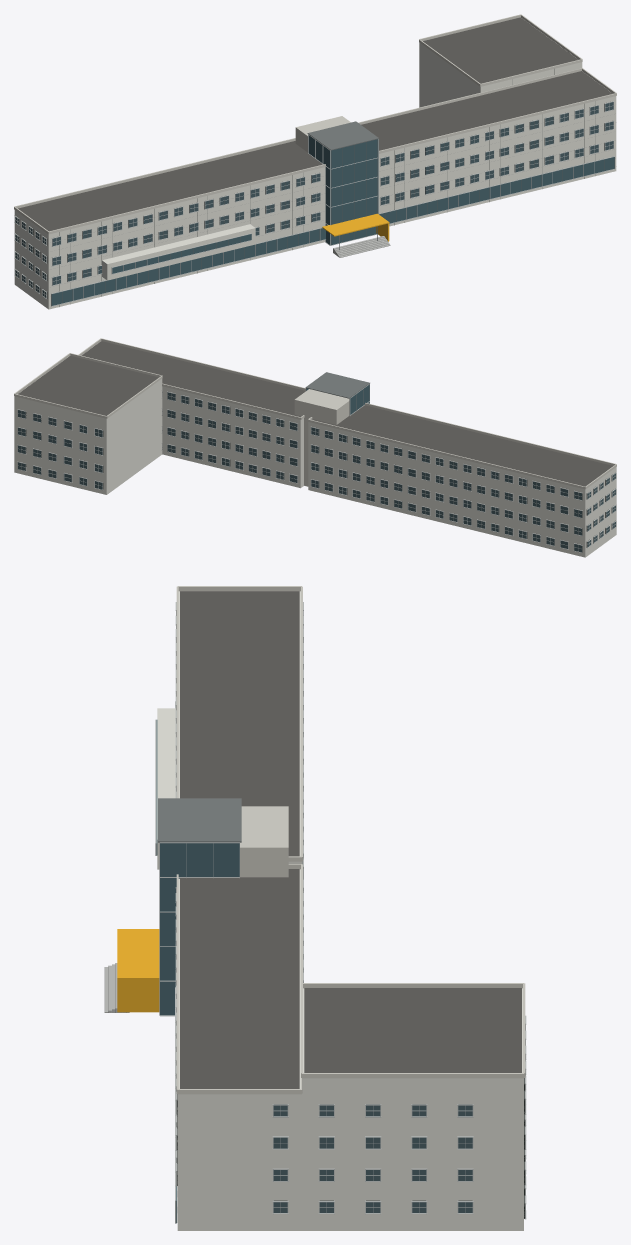
3 renders of one model, top to bottom at view 1: azimuth 30°, elevation 25°; view 2: azimuth 150°, elevation 25°; view 3: azimuth 270°, elevation 25°, orthographic. The views are drawn at different scales.
Parts seen in each view (by area): view 1: A-main__white, B-front-estimated__white, A-main-roof-estimated__roof, B-front-estimated-roof-estimated__roof, B-return-estimated-roof-estimated__roof, tall-entry-glazing__blue, B-front-estimated-front__glass, A-main-ground-glass__blue, A-main-front__glass, B-return-estimated__white, B-front-estimated-ground-glass__blue, B-front-estimated-front__frame (+19 smaller); view 2: A-main__white, B-return-estimated__white, B-front-estimated__white, A-main-roof-estimated__roof, B-front-estimated-roof-estimated__roof, A-main-rear-estimated__glass, B-return-estimated-roof-estimated__roof, A-main-rear-estimated__frame, B-front-estimated-rear-estimated__glass, B-front-estimated-rear-estimated__frame, A-main-roof-estimated__light, entry-back-wall-estimated__light (+8 smaller); view 3: B-return-estimated__white, A-main-roof-estimated__roof, B-front-estimated-roof-estimated__roof, B-return-estimated-roof-estimated__roof, B-front-estimated__white, entry-glazed-east__blue, entry-glass-roof__metal, entry-back-wall-estimated__light, endwall-estimated__glass, B-return-estimated-roof-estimated__light, endwall-estimated__frame, yellow-canopy__yellow (+5 smaller).
Boxes of the visible parts, bbox=[...] form: A-main__white: bbox=[14, 167, 325, 309]; B-front-estimated__white: bbox=[379, 71, 616, 226]; A-main-roof-estimated__roof: bbox=[18, 141, 322, 231]; B-front-estimated-roof-estimated__roof: bbox=[361, 71, 612, 150]; B-return-estimated-roof-estimated__roof: bbox=[423, 17, 578, 83]; tall-entry-glazing__blue: bbox=[331, 139, 377, 244]; B-front-estimated-front__glass: bbox=[381, 102, 613, 204]; A-main-ground-glass__blue: bbox=[51, 228, 325, 305]; A-main-front__glass: bbox=[52, 173, 320, 284]; B-return-estimated__white: bbox=[419, 23, 582, 107]; B-front-estimated-ground-glass__blue: bbox=[379, 157, 614, 223]; B-front-estimated-front__frame: bbox=[380, 101, 613, 205]; A-main__white: bbox=[308, 422, 616, 557]; B-return-estimated__white: bbox=[14, 357, 162, 494]; B-front-estimated__white: bbox=[87, 347, 303, 488]; A-main-roof-estimated__roof: bbox=[312, 405, 612, 486]; B-front-estimated-roof-estimated__roof: bbox=[82, 341, 305, 416]; A-main-rear-estimated__glass: bbox=[311, 427, 581, 552]; B-return-estimated-roof-estimated__roof: bbox=[18, 355, 158, 415]; A-main-rear-estimated__frame: bbox=[310, 426, 582, 552]; B-front-estimated-rear-estimated__glass: bbox=[167, 392, 297, 482]; B-front-estimated-rear-estimated__frame: bbox=[162, 390, 297, 483]; A-main-roof-estimated__light: bbox=[308, 403, 616, 489]; entry-back-wall-estimated__light: bbox=[294, 389, 349, 486]; B-return-estimated__white: bbox=[302, 988, 523, 1230]; A-main-roof-estimated__roof: bbox=[180, 591, 299, 856]; B-front-estimated-roof-estimated__roof: bbox=[180, 869, 299, 1088]; B-return-estimated-roof-estimated__roof: bbox=[304, 988, 521, 1072]; B-front-estimated__white: bbox=[177, 869, 301, 1230]; entry-glazed-east__blue: bbox=[160, 843, 239, 1015]; entry-glass-roof__metal: bbox=[158, 798, 241, 842]; entry-back-wall-estimated__light: bbox=[240, 806, 288, 877]; endwall-estimated__glass: bbox=[273, 1105, 472, 1212]; B-return-estimated-roof-estimated__light: bbox=[301, 983, 525, 1078]; endwall-estimated__frame: bbox=[272, 1104, 473, 1214]; yellow-canopy__yellow: bbox=[117, 929, 159, 979].
Bounding box in the file's own units: 135 × 21.71 × 47.44.
